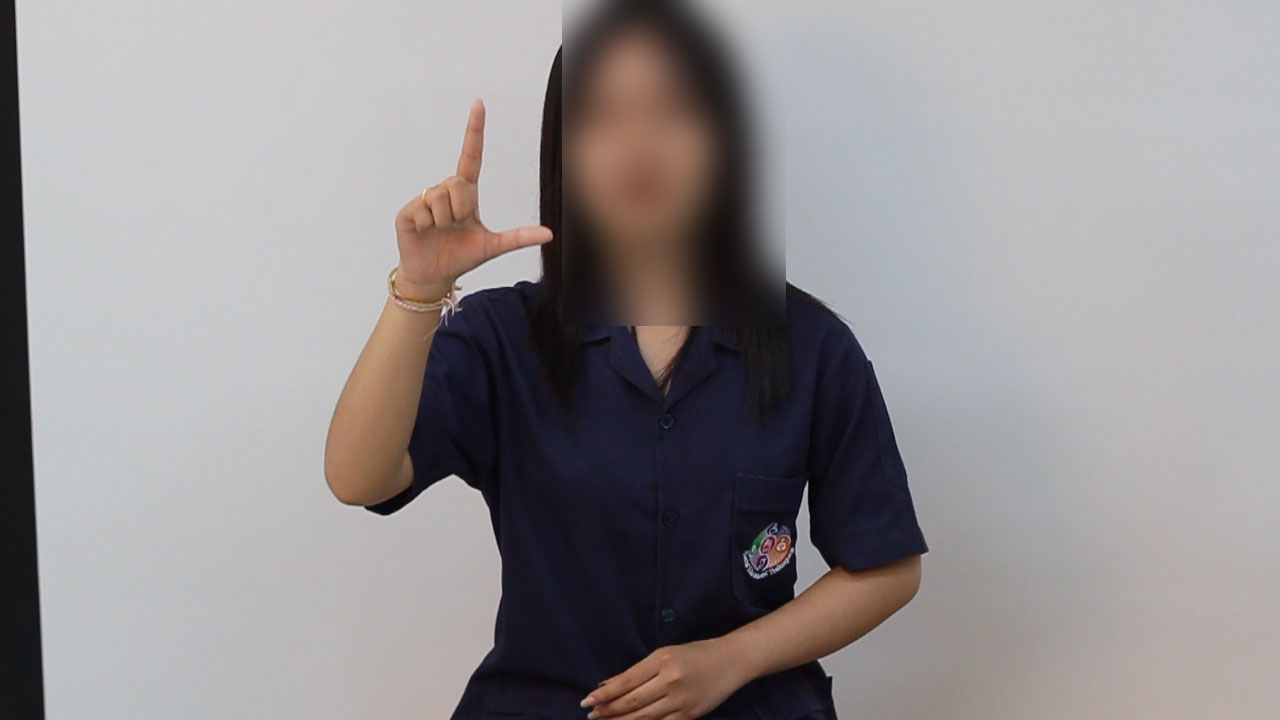lor: (345, 68, 581, 334)
